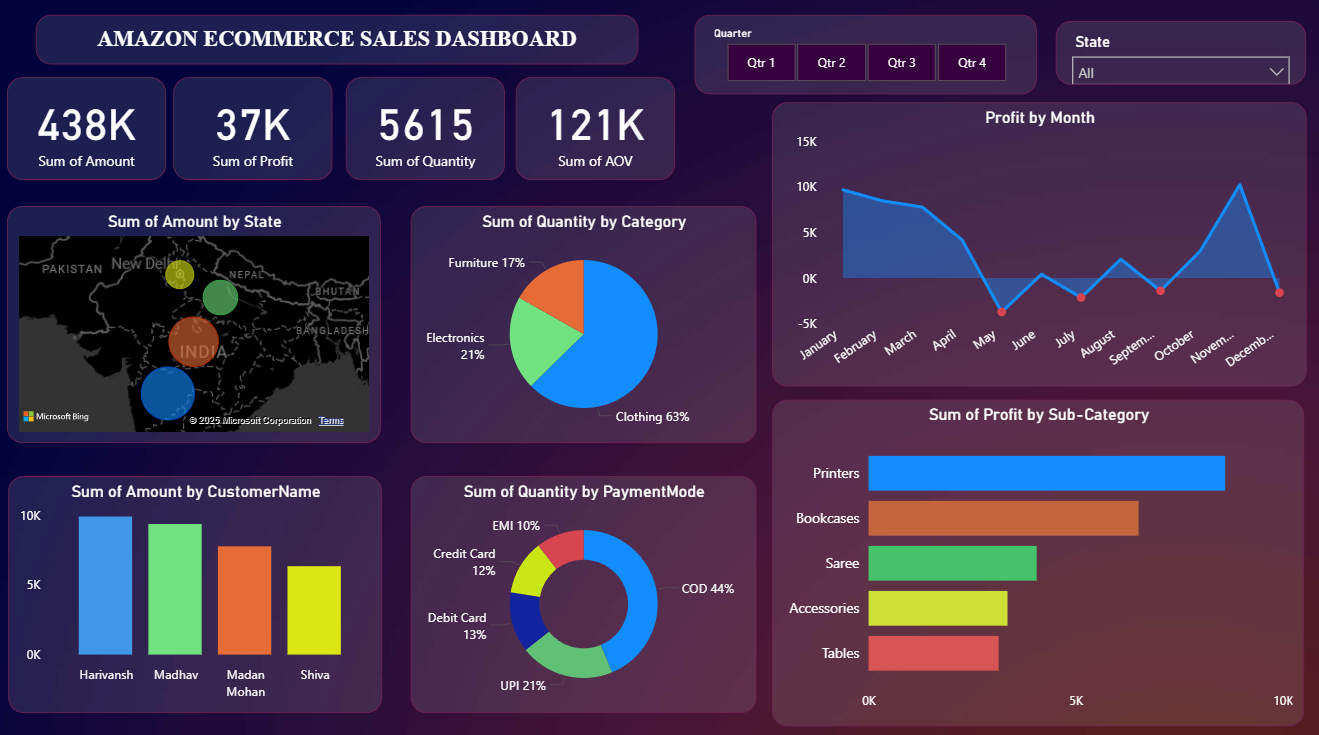

The page's visual inventory and layout, read from the dashboard file:
{"tool":"powerbi","page":{"name":"Page 1","canvas":[1280,720],"ordinal":0},"visuals":[{"type":"areaChart","title":"Profit by Month","fields":{"Category":["Orders.Order Date.Variation.Date Hierarchy.Month"],"Y":["Details.Profit"]},"box":[747.9,102.9,516,274.4],"z":0},{"type":"clusteredBarChart","fields":{"Category":["Details.Sub-Category"],"Y":["Details.Profit"]},"box":[748,389.7,513.9,314.9],"z":1000},{"type":"donutChart","fields":{"Category":["Details.PaymentMode"],"Y":["Details.Quantity"]},"box":[399.3,463.8,333.4,229.2],"z":2000},{"type":"pieChart","fields":{"Category":["Details.Category"],"Y":["Details.Quantity"]},"box":[399.3,203.1,333.4,229.2],"z":3000},{"type":"card","fields":{"Values":["Details.Amount"]},"box":[9.7,78.4,153.2,98.9],"z":4000},{"type":"card","fields":{"Values":["Details.AOV"]},"box":[500.7,78.4,153.2,98.9],"z":5000},{"type":"card","fields":{"Values":["Details.Quantity"]},"box":[336.6,78.4,153.2,98.9],"z":6000},{"type":"card","fields":{"Values":["Details.Profit"]},"box":[170.1,78.4,153.2,98.9],"z":7000},{"type":"map","fields":{"Category":["Orders.State"],"Size":["Details.Amount"]},"box":[9.6,203.1,360.9,229.2],"z":8000},{"type":"columnChart","fields":{"Category":["Orders.CustomerName"],"Y":["Details.Amount"]},"box":[11,463.8,360.9,229.2],"z":9000},{"type":"slicer","fields":{"Values":["Orders.Order Date.Variation.Date Hierarchy.Quarter"]},"box":[673.8,17.8,330.7,76.8],"z":10000},{"type":"slicer","fields":{"Values":["Orders.State"]},"box":[1022.3,24.7,241.5,61.7],"z":11000},{"type":"textbox","box":[37,17.8,581.8,48],"z":12000}]}

Visuals, with their boxes in screenshot pixels (x1, y1, x2, y2), scaled from the page's 1280x720 canvas onto the 1319x735 screenshot:
"Profit by Month" areaChart: <box>771,105,1302,385</box>
clusteredBarChart - Details.Sub-Category x Details.Profit: <box>771,398,1300,719</box>
donutChart - Details.PaymentMode x Details.Quantity: <box>411,473,755,707</box>
pieChart - Details.Category x Details.Quantity: <box>411,207,755,441</box>
card - Details.Amount: <box>10,80,168,181</box>
card - Details.AOV: <box>516,80,674,181</box>
card - Details.Quantity: <box>347,80,505,181</box>
card - Details.Profit: <box>175,80,333,181</box>
map - Orders.State x Details.Amount: <box>10,207,382,441</box>
columnChart - Orders.CustomerName x Details.Amount: <box>11,473,383,707</box>
slicer - Orders.Order Date.Variation.Date Hierarchy.Quarter: <box>694,18,1035,97</box>
slicer - Orders.State: <box>1053,25,1302,88</box>
textbox: <box>38,18,638,67</box>
